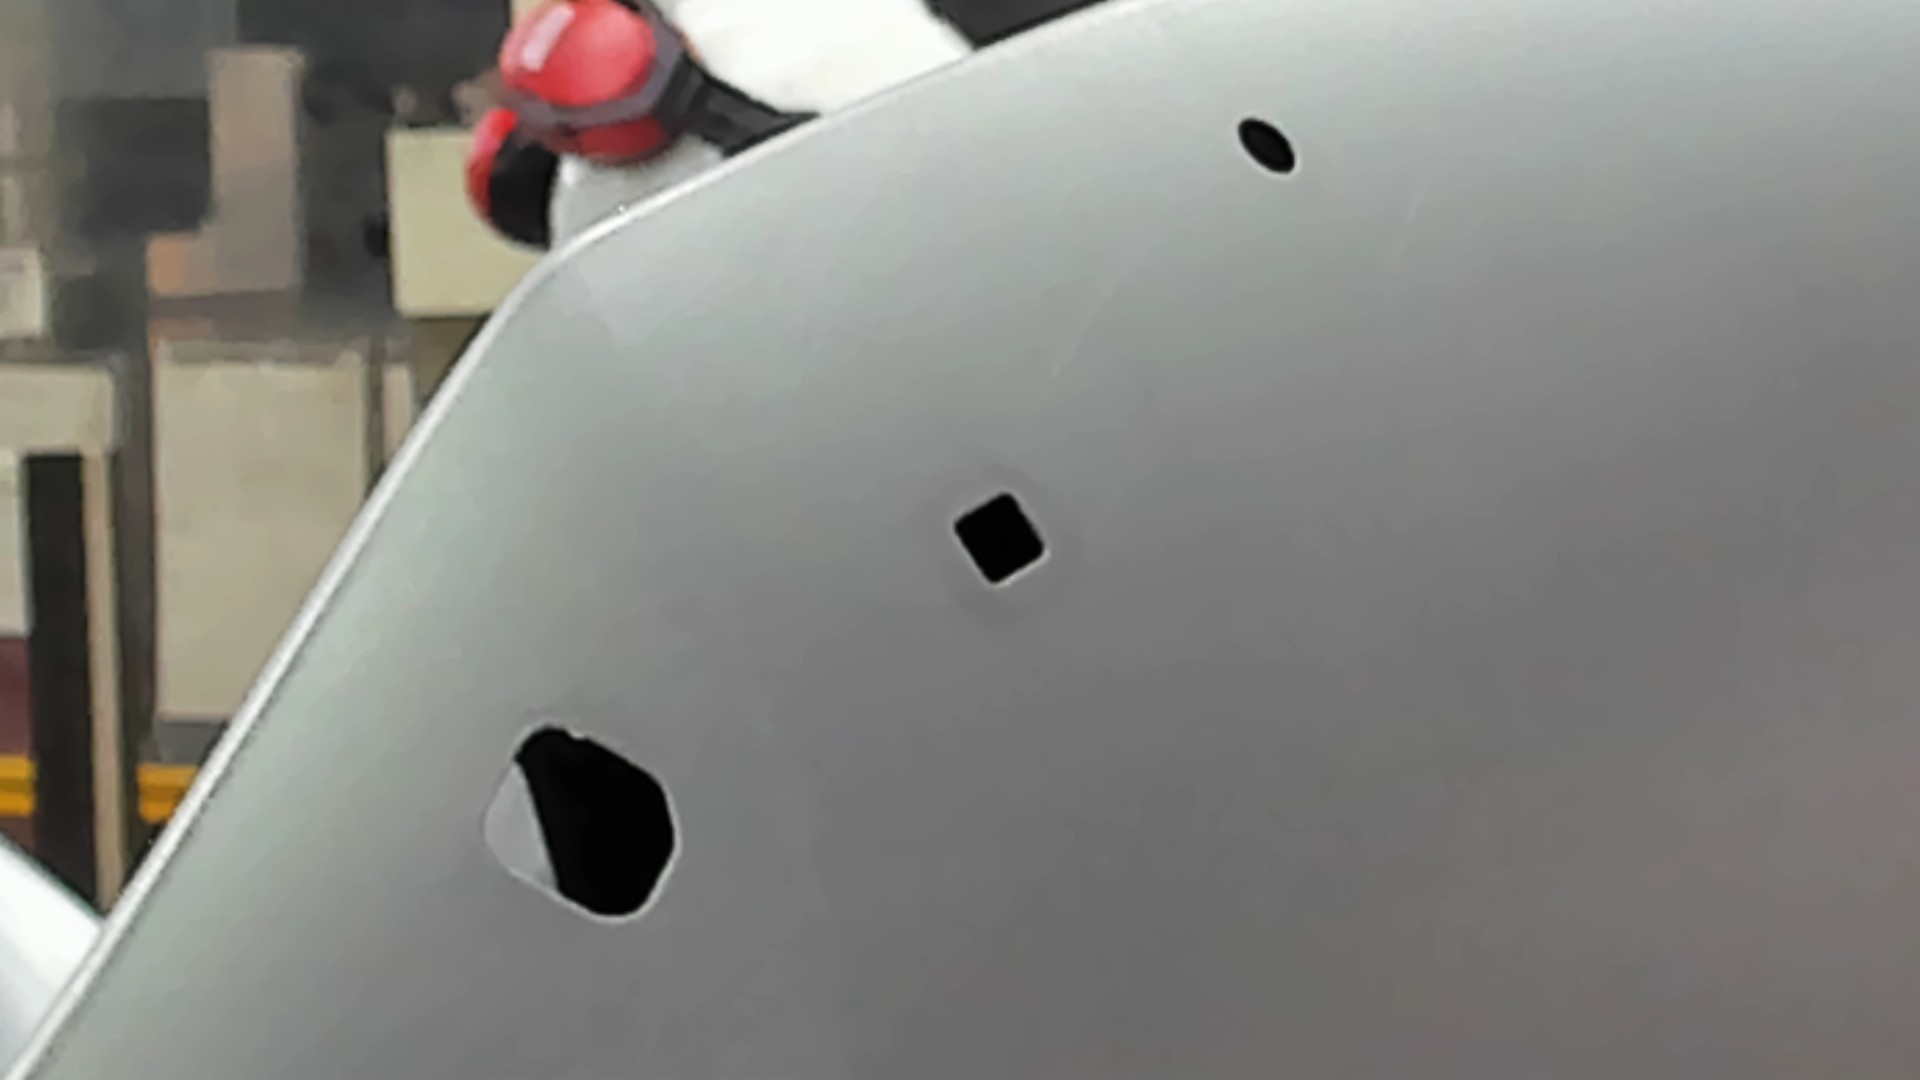chico: (1228, 109, 1300, 179)
grande: (473, 717, 683, 922)
mediano: (948, 487, 1051, 593)
